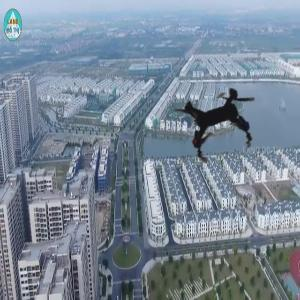drone: (148, 46, 294, 192)
